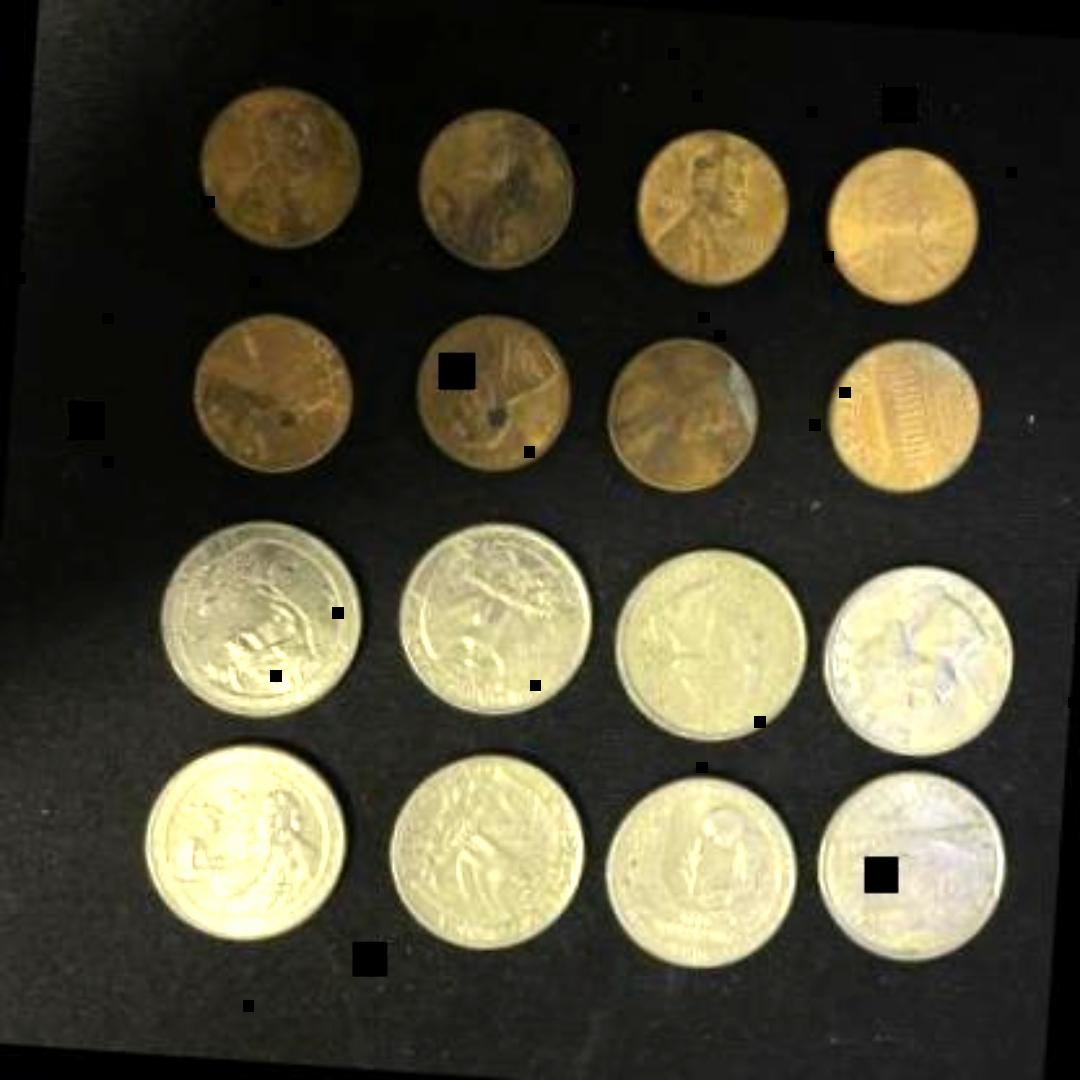Penny: (620, 118, 800, 290), (197, 72, 370, 250), (410, 99, 584, 275), (820, 132, 992, 310), (193, 302, 366, 476), (598, 324, 769, 494), (410, 304, 581, 474), (826, 326, 986, 494)
Quarter: (158, 502, 381, 726), (372, 740, 594, 964), (388, 507, 602, 727), (608, 538, 823, 753), (595, 762, 805, 982), (134, 739, 352, 949), (813, 548, 1023, 760), (808, 757, 1010, 967)
